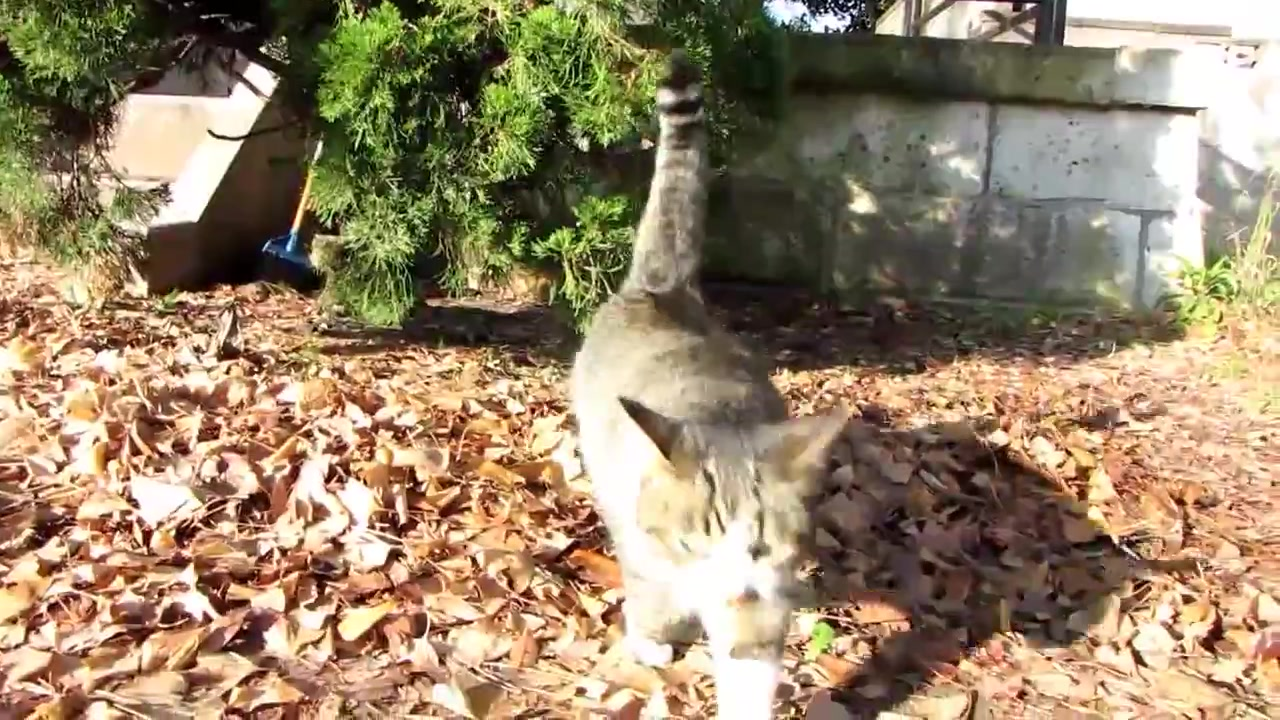cat: (570, 52, 860, 720)
